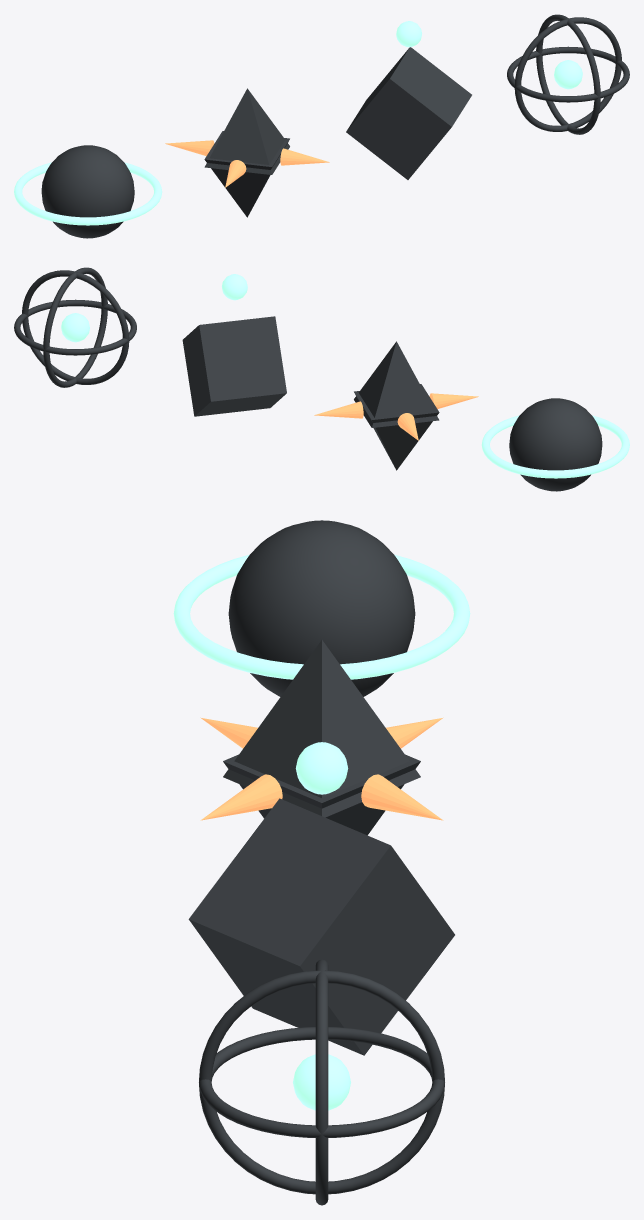
The model's file is sonar_contacts_all.glb.
3 renders of one model, top to bottom at view 1: azimuth 30°, elevation 25°; view 2: azimuth 150°, elevation 25°; view 3: azimuth 270°, elevation 25°, orthographic. The views are drawn at different scales.
Visible parts, largest first — view 1: unknown cube, friendly core, hostile top, friendly ring, decoy cage.002, hostile bottom, decoy cage, decoy cage.001, decoy echo, unknown dot, hostile spike 3, hostile spike 1 (+1 smaller); view 2: unknown cube, friendly core, hostile top, friendly ring, decoy cage.002, hostile bottom, decoy cage, decoy cage.001, decoy echo, unknown dot, hostile spike 0, hostile spike 2 (+1 smaller); view 3: unknown cube, friendly core, hostile top, decoy cage, friendly ring, decoy cage.001, decoy cage.002, hostile bottom, unknown dot, decoy echo, hostile spike 0, hostile spike 3.
Boxes of the visible parts, left/top/right/bottom form: unknown cube: left=346, top=47, right=471, bottom=179; friendly core: left=41, top=145, right=134, bottom=238; hostile top: left=204, top=88, right=289, bottom=174; friendly ring: left=14, top=162, right=162, bottom=225; decoy cage.002: left=514, top=17, right=621, bottom=131; hostile bottom: left=204, top=131, right=289, bottom=217; decoy cage: left=536, top=14, right=600, bottom=134; decoy cage.001: left=507, top=46, right=629, bottom=102; decoy echo: left=554, top=60, right=582, bottom=89; unknown dot: left=396, top=21, right=421, bottom=47; hostile spike 3: left=280, top=148, right=329, bottom=165; hostile spike 1: left=165, top=140, right=214, bottom=156; unknown cube: left=182, top=316, right=286, bottom=416; friendly core: left=509, top=398, right=602, bottom=491; hostile top: left=354, top=341, right=439, bottom=427; friendly ring: left=481, top=415, right=629, bottom=478; decoy cage.002: left=22, top=270, right=129, bottom=384; hostile bottom: left=354, top=384, right=439, bottom=470; decoy cage: left=43, top=267, right=107, bottom=387; decoy cage.001: left=14, top=299, right=136, bottom=355; decoy echo: left=61, top=313, right=89, bottom=342; unknown dot: left=222, top=274, right=247, bottom=300; hostile spike 0: left=314, top=401, right=363, bottom=418; hostile spike 2: left=429, top=393, right=478, bottom=409; unknown cube: left=188, top=798, right=454, bottom=1055; friendly core: left=228, top=520, right=415, bottom=696; hostile top: left=223, top=640, right=420, bottom=817; decoy cage: left=199, top=970, right=444, bottom=1194; friendly ring: left=173, top=554, right=470, bottom=679; decoy cage.001: left=199, top=1027, right=444, bottom=1137; decoy cage.002: left=315, top=959, right=328, bottom=1205; hostile bottom: left=223, top=754, right=420, bottom=835; unknown dot: left=295, top=742, right=348, bottom=794; decoy echo: left=293, top=1054, right=350, bottom=1110; hostile spike 0: left=361, top=774, right=443, bottom=820; hostile spike 3: left=200, top=774, right=282, bottom=820.
Size of the model in its own units: 2.36 by 0.59 by 0.508.
